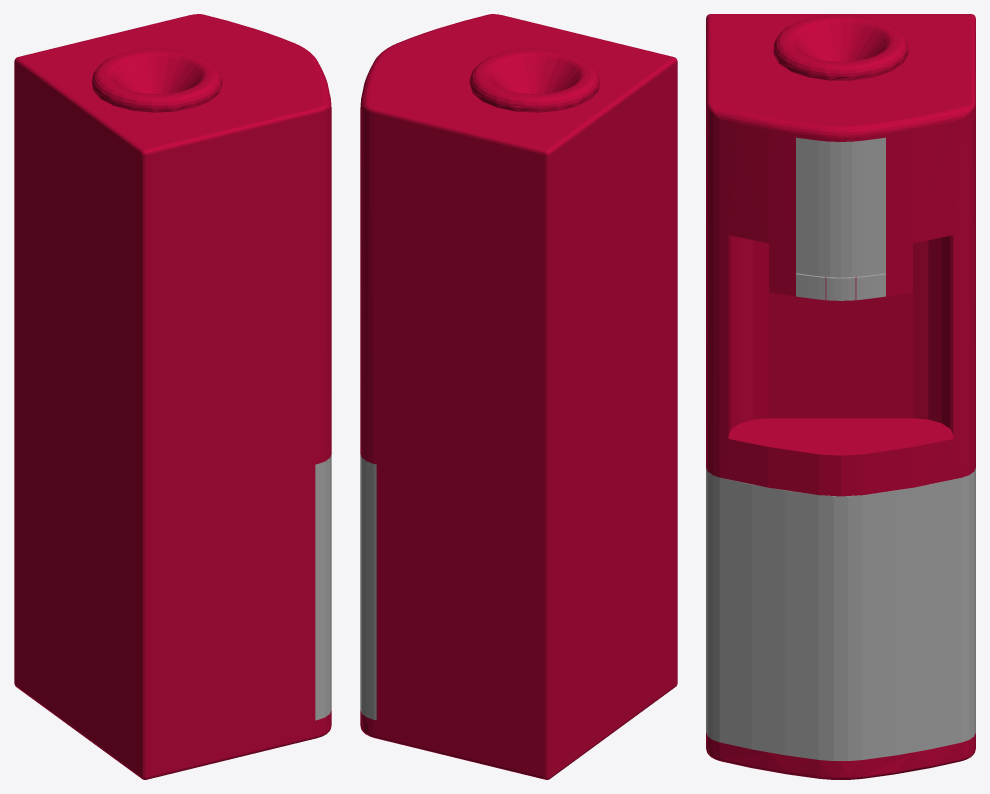
File: water_dispenser.dae
The picture shows the model from 3 angles, left to right: view 1: azimuth 30°, elevation 25°; view 2: azimuth 150°, elevation 25°; view 3: azimuth 270°, elevation 25°; orthographic projection. The views are drawn at different scales.
Parts seen in each view (by area): view 1: Dispenser Color, Dispenser Silver; view 2: Dispenser Color, Dispenser Silver; view 3: Dispenser Color, Dispenser Silver.
Boxes of the visible parts, x1=… form: Dispenser Color: x1=14, y1=14, x2=331, y2=779; Dispenser Silver: x1=315, y1=454, x2=331, y2=720; Dispenser Color: x1=360, y1=14, x2=677, y2=779; Dispenser Silver: x1=360, y1=454, x2=376, y2=720; Dispenser Color: x1=706, y1=14, x2=975, y2=779; Dispenser Silver: x1=706, y1=137, x2=975, y2=760.
Bounding box in the file's own units: 0.3086 × 0.3 × 0.815.
